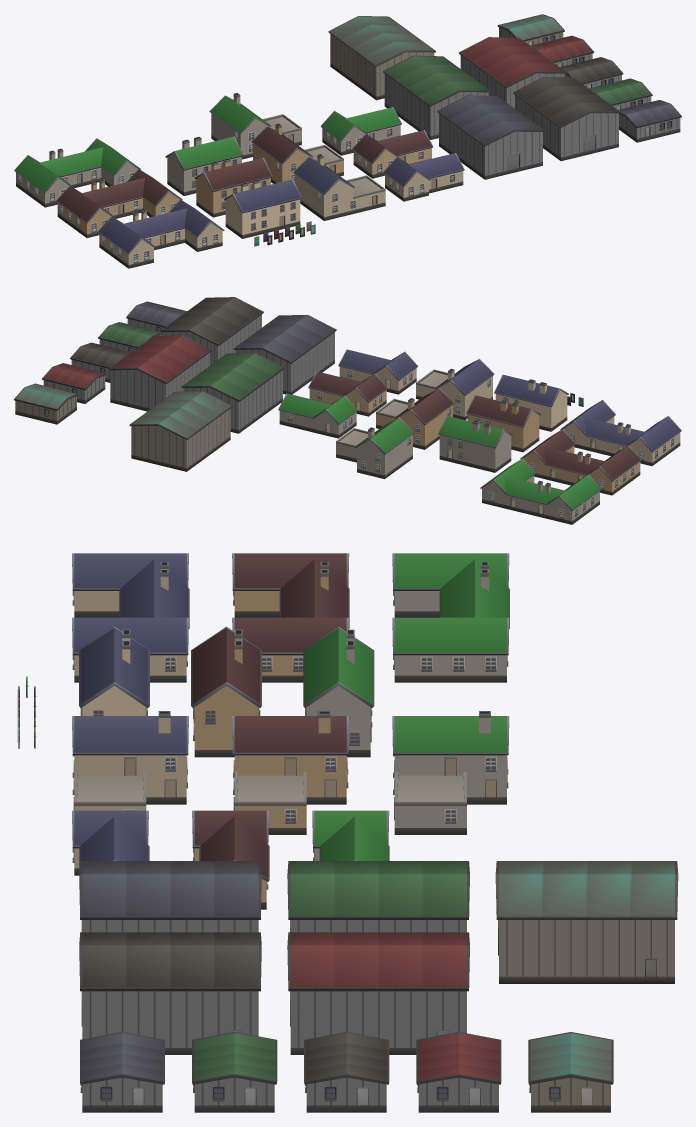
File: pack_-_low_poly_-_22_building__interior.glb
3 views of the same model, one above another, from view 1: azimuth 30°, elevation 25°; view 2: azimuth 150°, elevation 25°; view 3: azimuth 270°, elevation 25° (orthographic). The views are drawn at different scales.
Parts seen in each view (by area): view 1: Object_2, Object_3; view 2: Object_2, Object_3; view 3: Object_2, Object_3.
Part boxes in pixels (x1=…): Object_2: x1=14, y1=14, x2=681, y2=268; Object_3: x1=19, y1=36, x2=671, y2=259; Object_2: x1=14, y1=297, x2=681, y2=524; Object_3: x1=45, y1=327, x2=672, y2=515; Object_2: x1=17, y1=553, x2=678, y2=1112; Object_3: x1=94, y1=658, x2=559, y2=1098.
Size of the model in its own units: 154 by 11.5 by 82.47.
2 materials, 1 textured.
